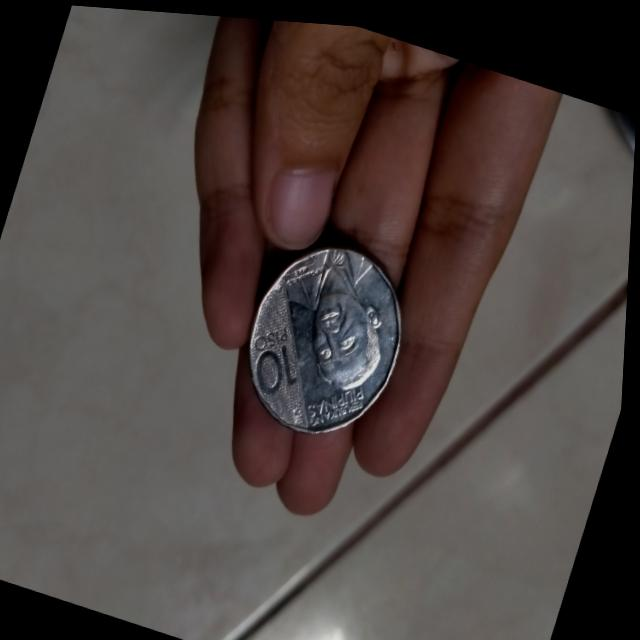10_New_Front: (238, 238, 409, 429)
